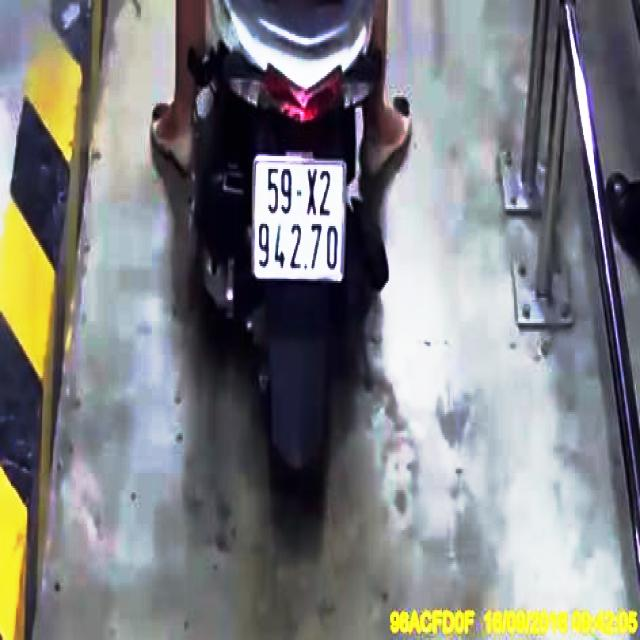license_plate: (253, 158, 348, 286)
